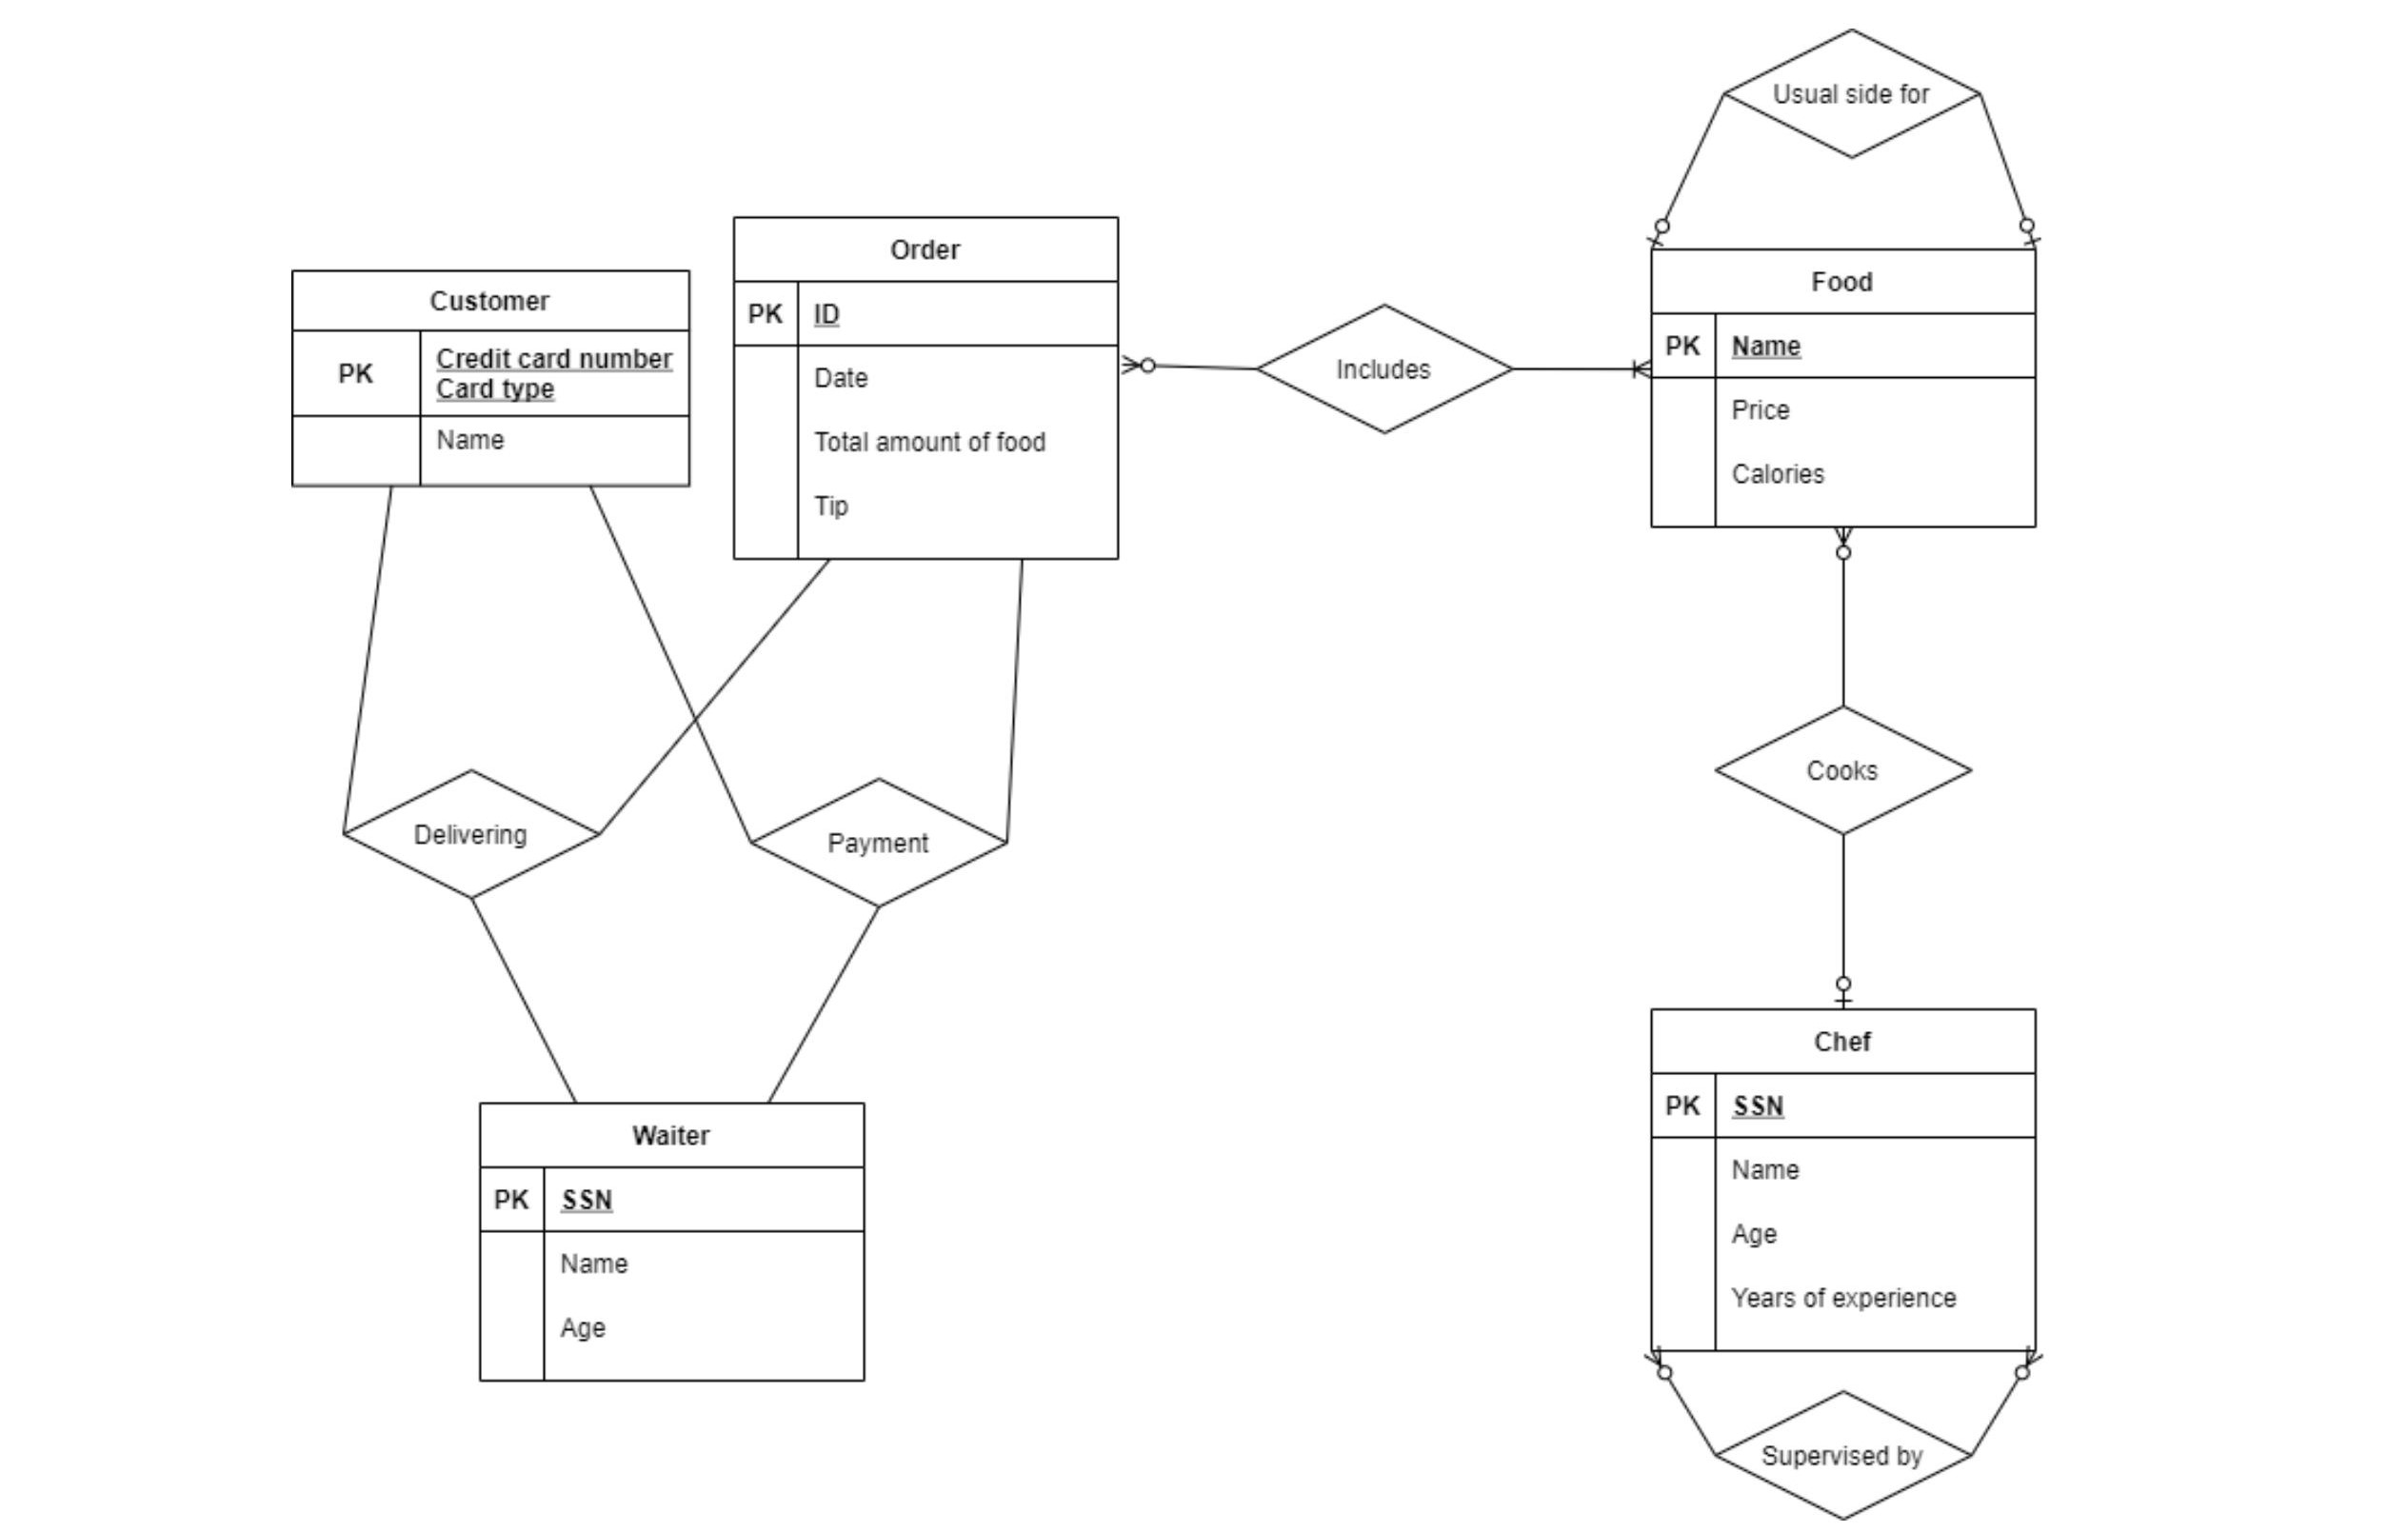Entity: (1650, 1006, 2038, 1355), (732, 216, 1122, 562), (474, 1099, 869, 1385), (1650, 247, 2039, 530), (290, 267, 692, 490)
Relationship: (1722, 28, 1980, 160), (1713, 705, 1973, 835), (1716, 1390, 1974, 1520), (344, 767, 598, 898), (1257, 304, 1513, 433), (751, 777, 1006, 906)
